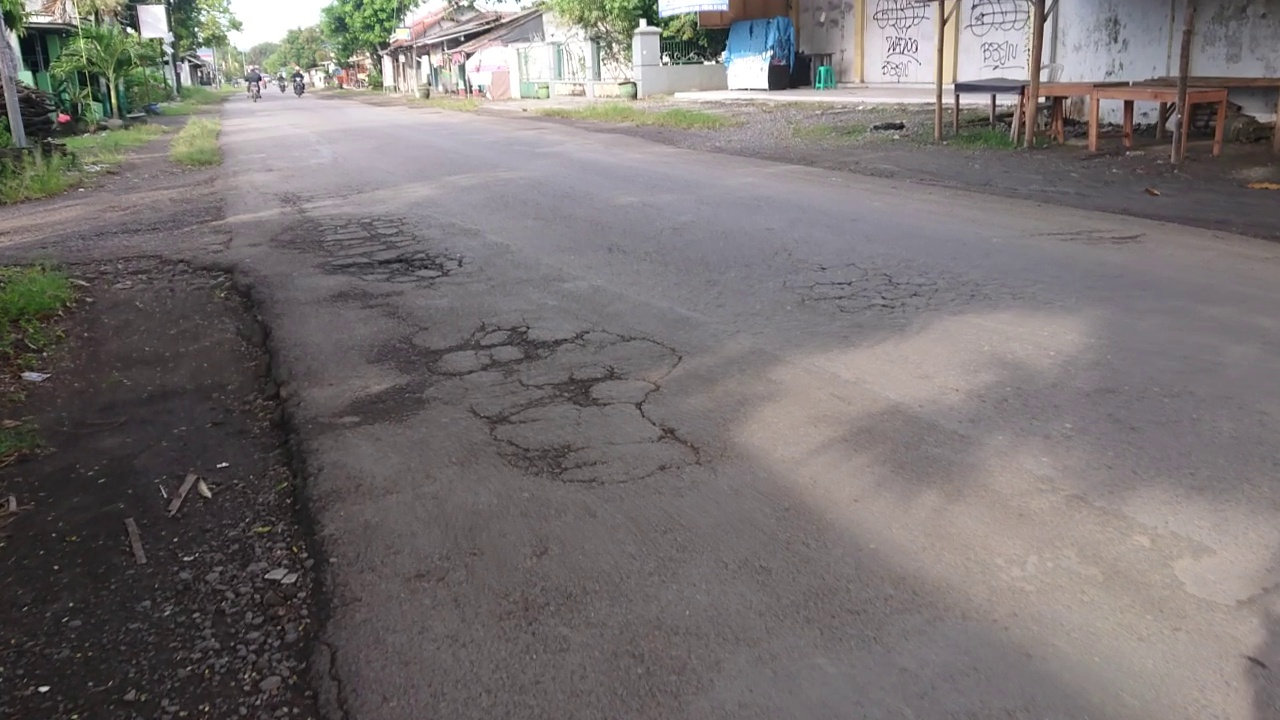Retak: (424, 325, 694, 483), (304, 215, 468, 312), (794, 263, 956, 323)
